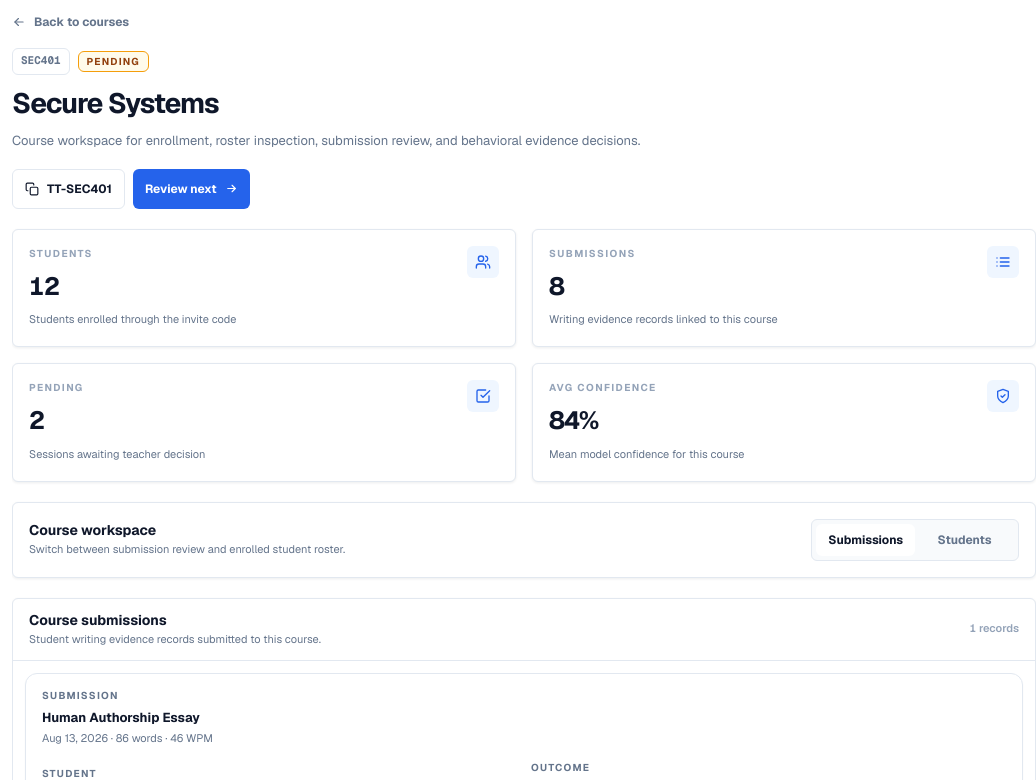
Scenario: TeacherCourseDetailPage › switches from submission review to the enrolled-student roster
Click the tab "Students" at (965, 540), box [915,524,1014,556]
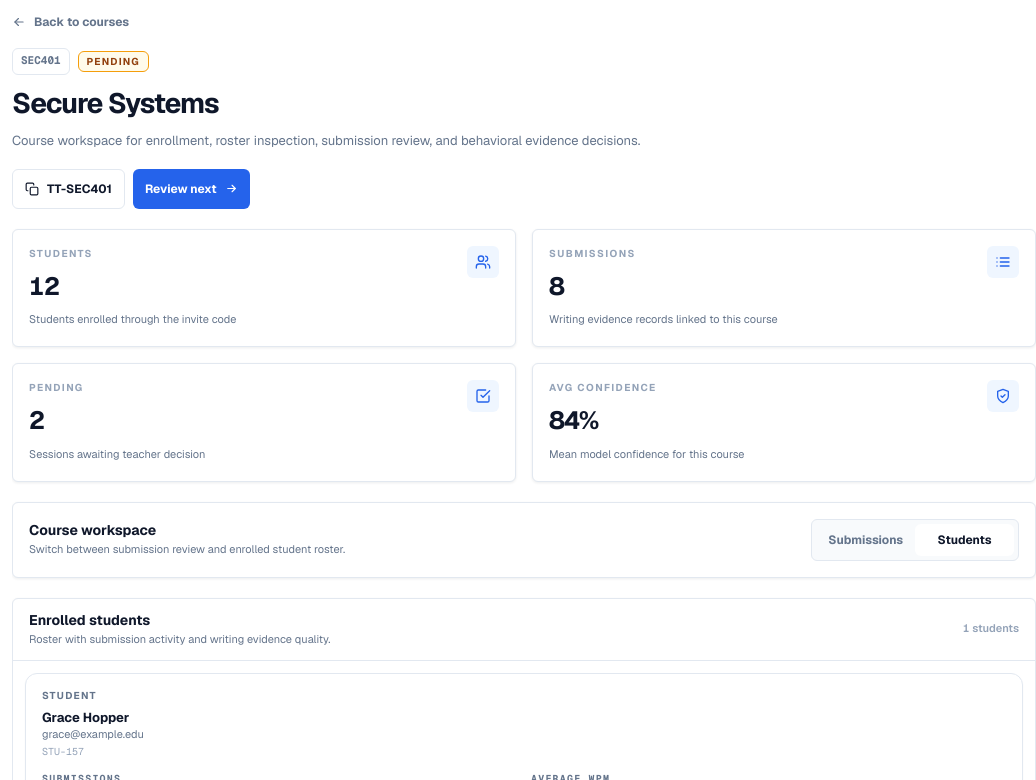
Expected: the text "STU-157" is shown, [42,745,84,758]
Result: the heading "Enrolled students" is shown at [29,612,150,630]
Result: the text "grace@example.edu" is shown at [42,728,144,742]
